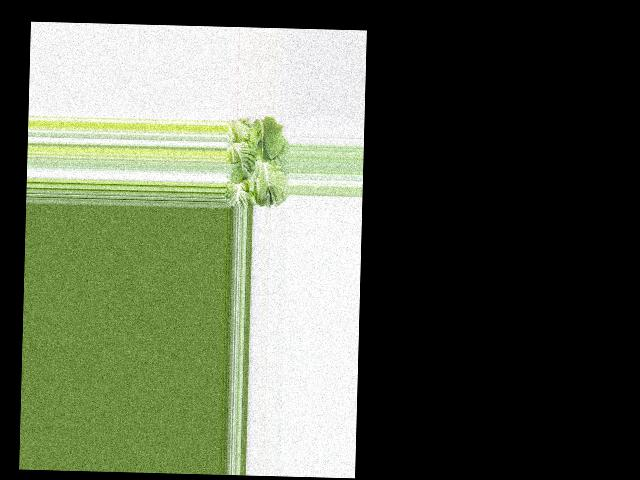lettuce: (224, 117, 288, 208)
